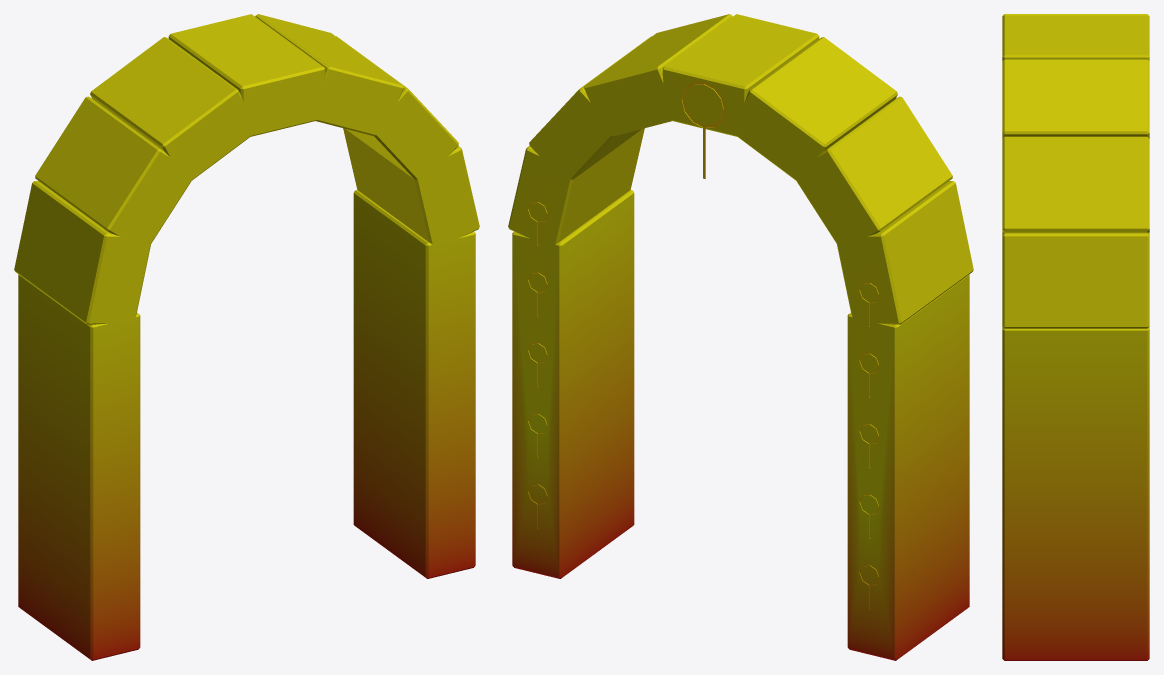
File: temple_gate.glb
3 views of the same model, side by side, from view 1: azimuth 30°, elevation 25°; view 2: azimuth 150°, elevation 25°; view 3: azimuth 270°, elevation 25° (orthographic).
Parts seen in each view (by area): view 1: temple_gate; view 2: temple_gate; view 3: temple_gate.
Part boxes in pixels (left/top/right/bottom): temple_gate: left=14, top=14, right=479, bottom=660; temple_gate: left=508, top=14, right=973, bottom=660; temple_gate: left=1002, top=14, right=1149, bottom=660.
Size of what is drawn, in the model's own units: 6.13 by 8 by 2.
